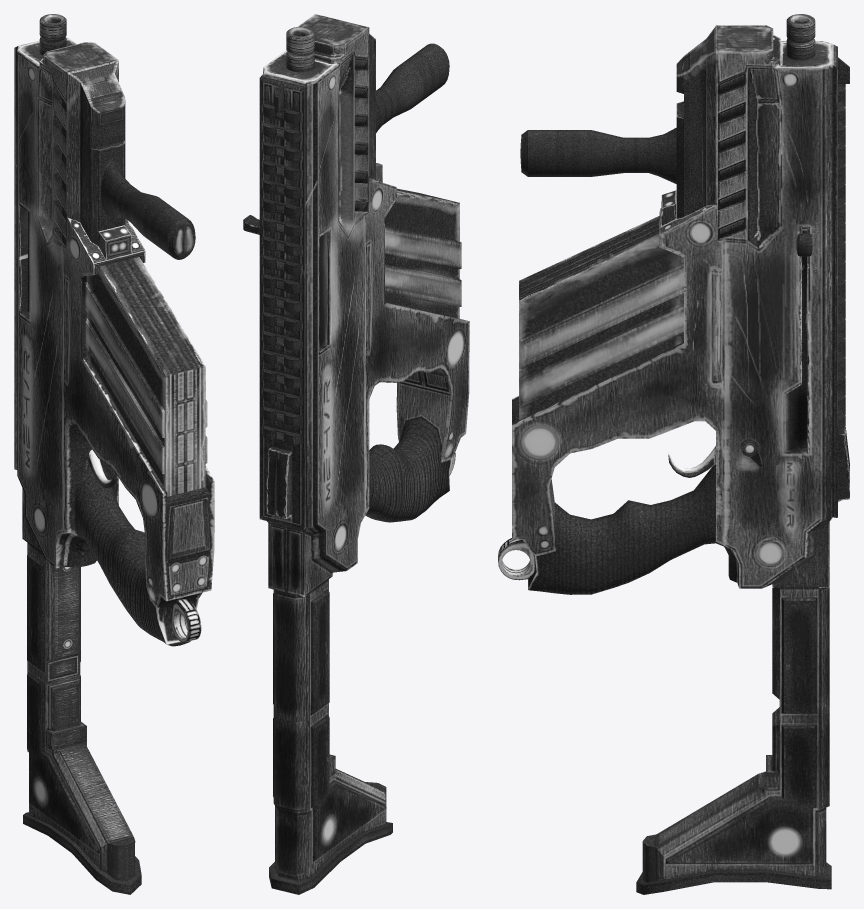
The model's file is wapon.dae.
The picture shows the model from 3 angles, left to right: view 1: azimuth 30°, elevation 25°; view 2: azimuth 150°, elevation 25°; view 3: azimuth 270°, elevation 25°; orthographic projection. The views are drawn at different scales.
Parts seen in each view (by area): view 1: SMG; view 2: SMG; view 3: SMG.
Boxes of the visible parts, box(x1,y1,x2,y2) form: SMG: box(14, 14, 214, 894); SMG: box(243, 14, 469, 894); SMG: box(498, 14, 849, 894).
Size of the model in its own units: 0.8116 by 3.05 by 8.36.
Materials: 1 (1 with a texture image).
